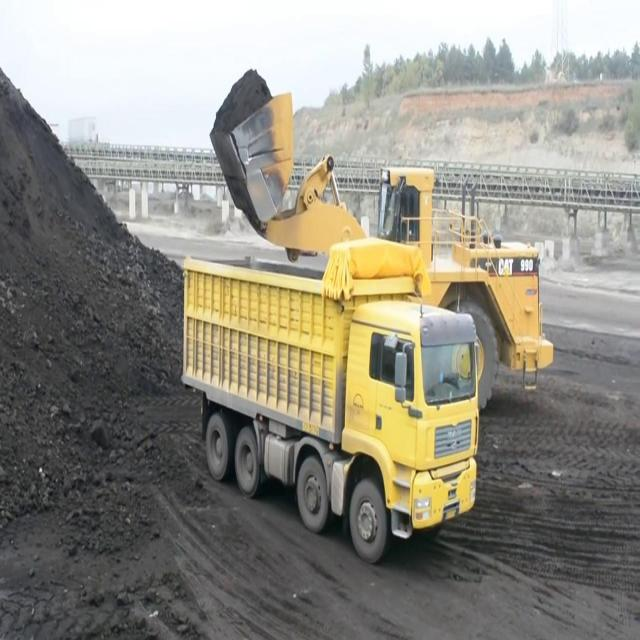Dump Truck: (168, 229, 484, 570)
Loader: (207, 85, 567, 422)
